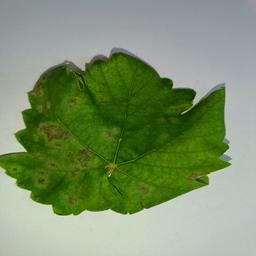Powdery-Mildew: (34, 154, 61, 192), (38, 118, 71, 144), (30, 82, 56, 112), (73, 149, 95, 178), (65, 93, 82, 110), (185, 170, 202, 186), (65, 185, 81, 202), (136, 186, 152, 202)
